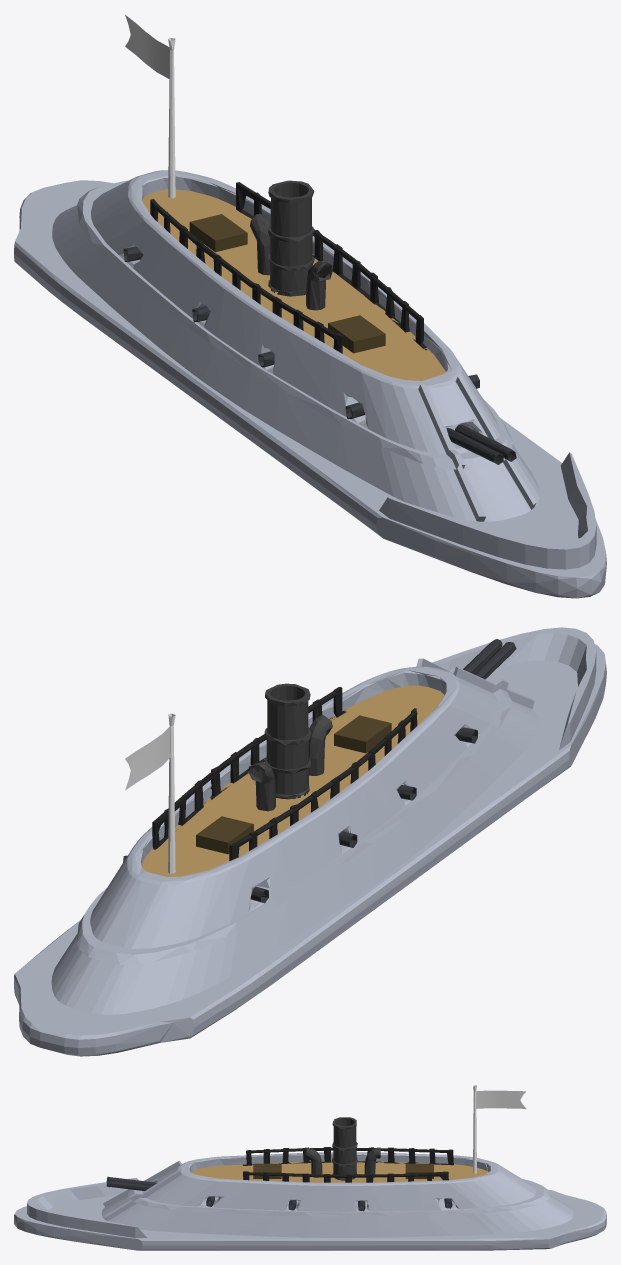
The model's file is cimpletoon.f32c67875649.ironclad.glb.
The picture shows the model from 3 angles, top to bottom: view 1: azimuth 30°, elevation 25°; view 2: azimuth 150°, elevation 25°; view 3: azimuth 270°, elevation 25°; orthographic projection. The views are drawn at different scales.
Parts seen in each view (by area): view 1: ironclad.glb; view 2: ironclad.glb; view 3: ironclad.glb.
Boxes of the visible parts, left/top/right/bottom form: ironclad.glb: left=14, top=15, right=606, bottom=598; ironclad.glb: left=14, top=627, right=606, bottom=1056; ironclad.glb: left=14, top=1085, right=606, bottom=1250.
Bounding box in the file's own units: 0.7572 × 0.937 × 3.62.
Materials: 1 (1 with a texture image).
